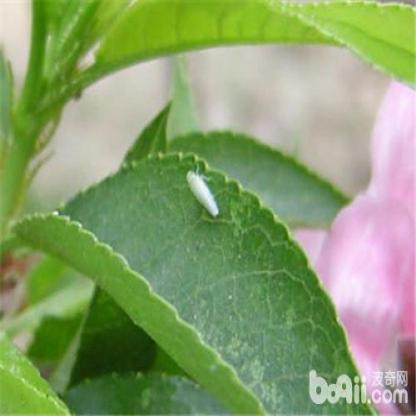Green-Leafhopper: (179, 158, 223, 228)
